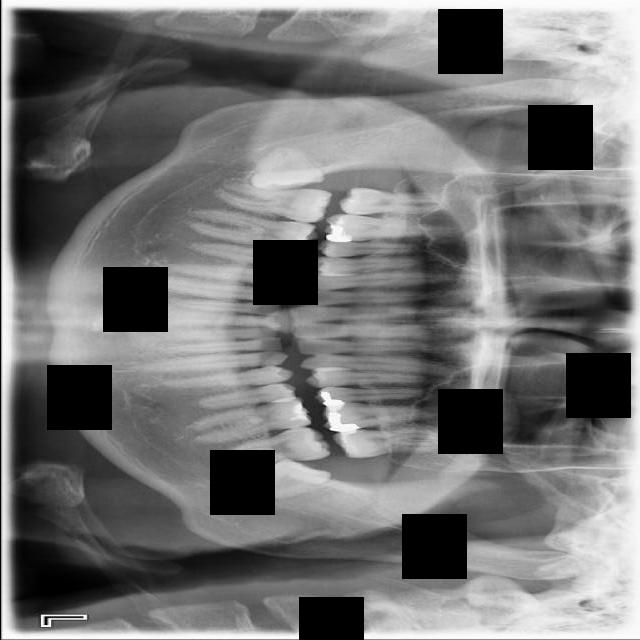52: (263, 394, 311, 432), (322, 214, 376, 242), (332, 430, 378, 459), (320, 402, 364, 432), (313, 387, 357, 406)
73: (65, 616, 85, 624)
BioHorizons Implant: (333, 427, 446, 460)
Biomet 3i Implant: (252, 452, 332, 503)
Blue Sky Bio Implant: (219, 424, 331, 469)
Caries: (337, 187, 444, 216)
Implant: (215, 182, 331, 225)
Keystone Dental Implant: (246, 142, 325, 194)
